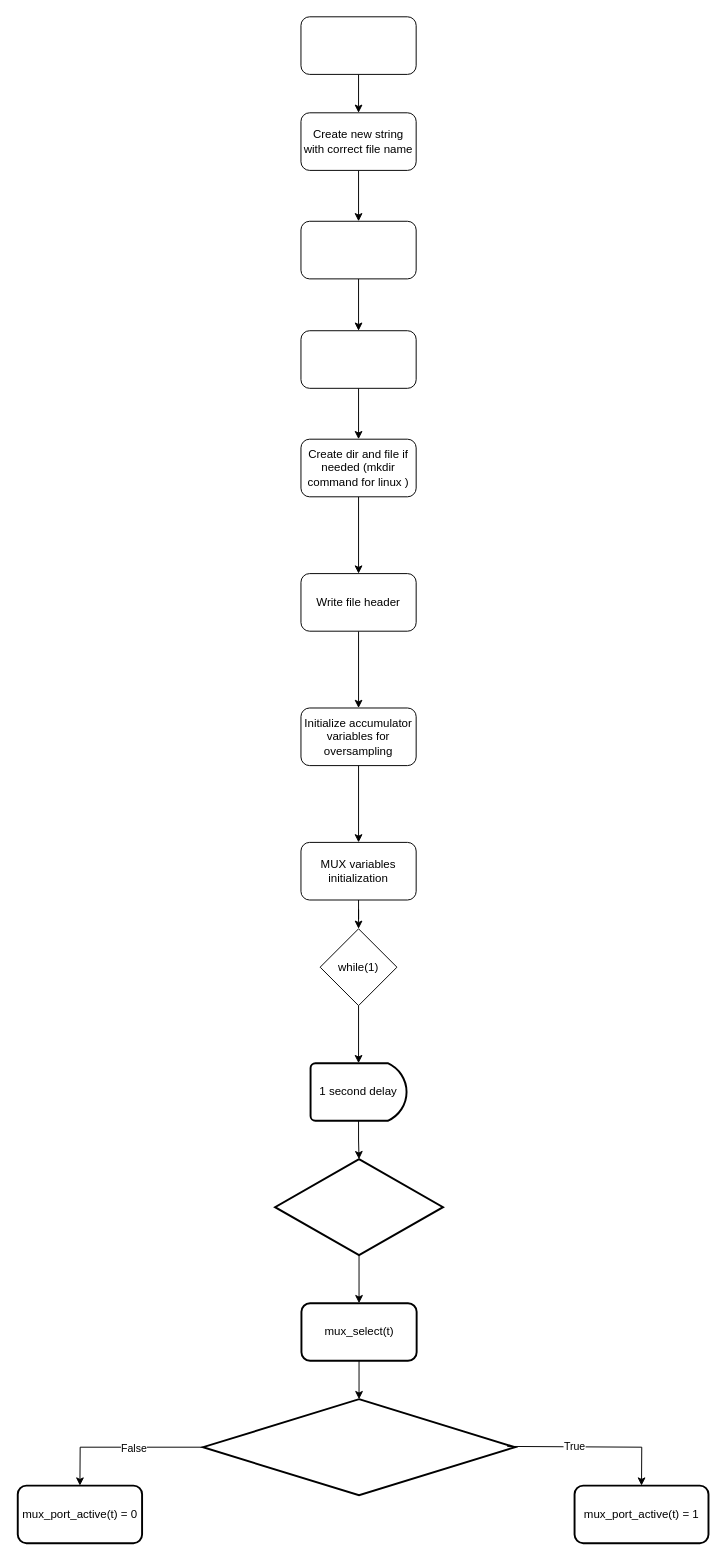
Some shapes in this 726 by 1561 pixel diagram are drawn without their labels. Here are the shapes that lost their labels. From the top down, the centre of each, then its label:
[358,45]: Initialize variables
[358,249]: Load from config file
[358,359]: Initialize libraries
[359,1207]: for( int t = 0; t<8; t++)
[359,1447]: if (i2c_detect(mux_addr) //avoid detecting self)
